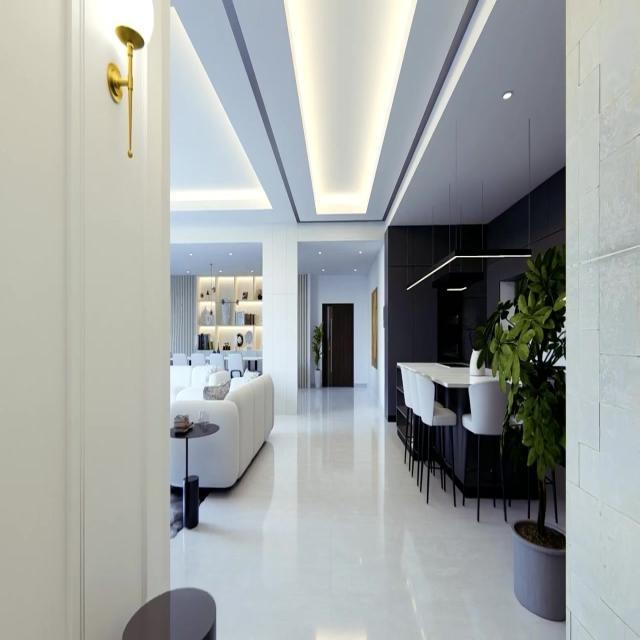door: (322, 302, 354, 387)
obstacle: (170, 368, 274, 490), (461, 382, 510, 526), (413, 371, 458, 506), (169, 420, 219, 530)
